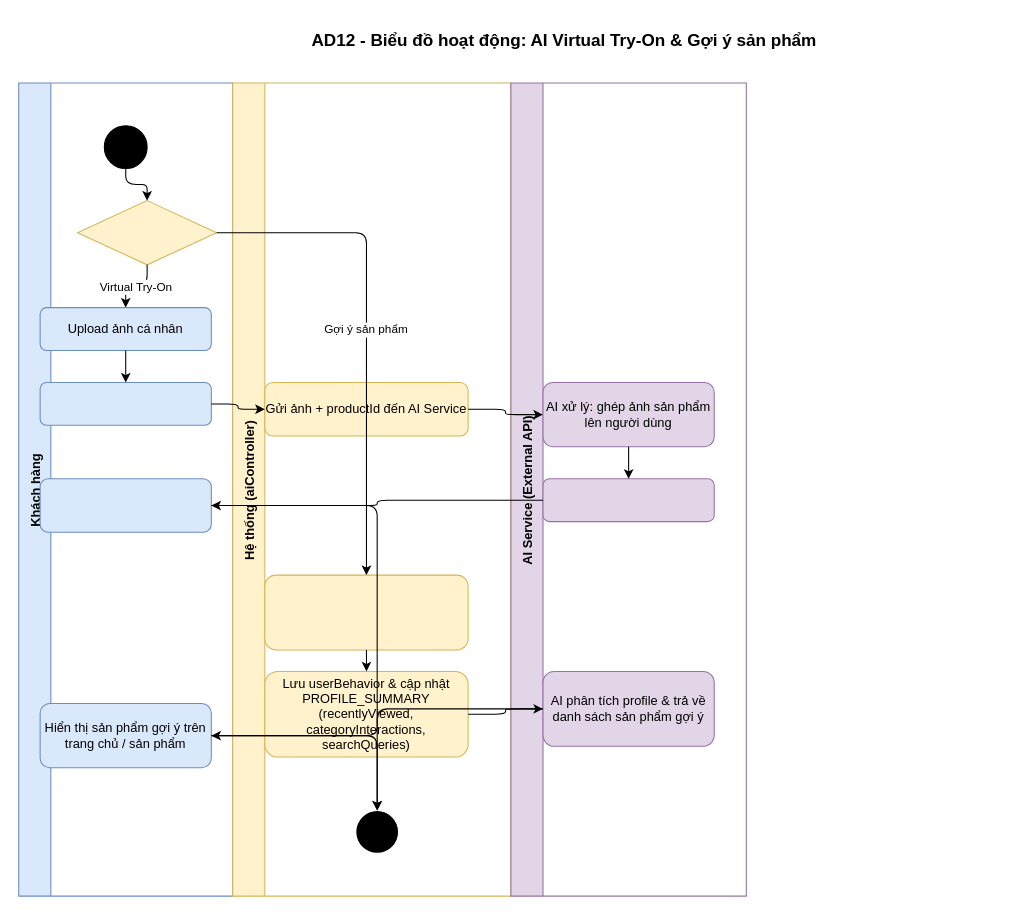
Some shapes in this 1011 by 915 pixel diagram are drawn without their labels. Here are the shapes that lost their labels. From the top down, the centre of each, then its label:
At pixel 147 232: "Tính năng AI?".
At pixel 125 403: "Chọn sản phẩm muốn thử".
At pixel 125 505: "Hiển thị ảnh Try-On cho khách hàng".
At pixel 628 500: "Trả về ảnh kết quả Try-On".
At pixel 366 612: "Hệ thống ghi nhận hành vi: xem sản phẩm, tìm kiếm, thêm giỏ hàng".
